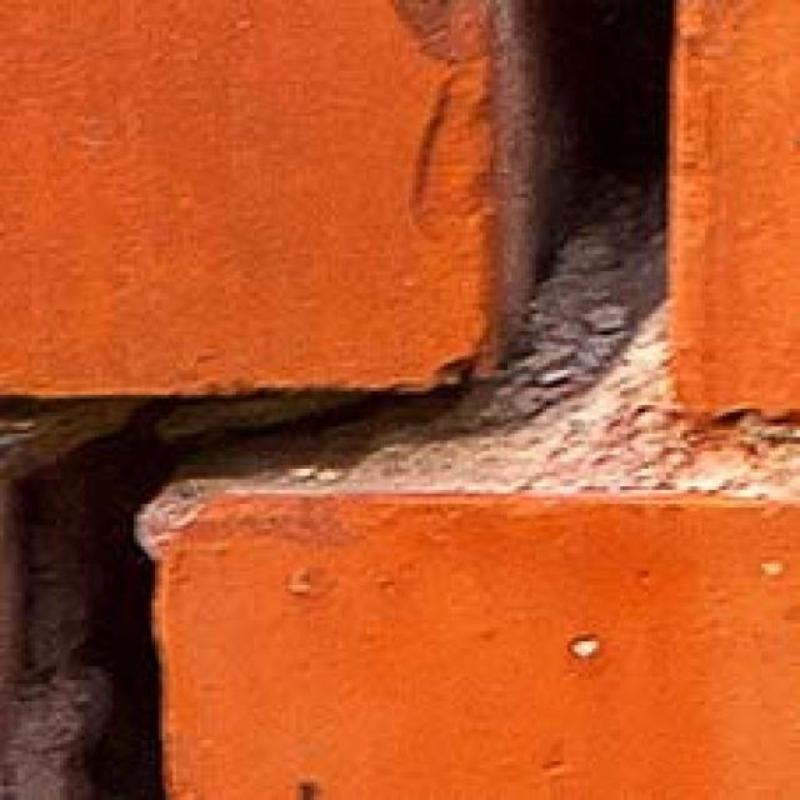pothole: (20, 384, 482, 799), (531, 0, 671, 276)
